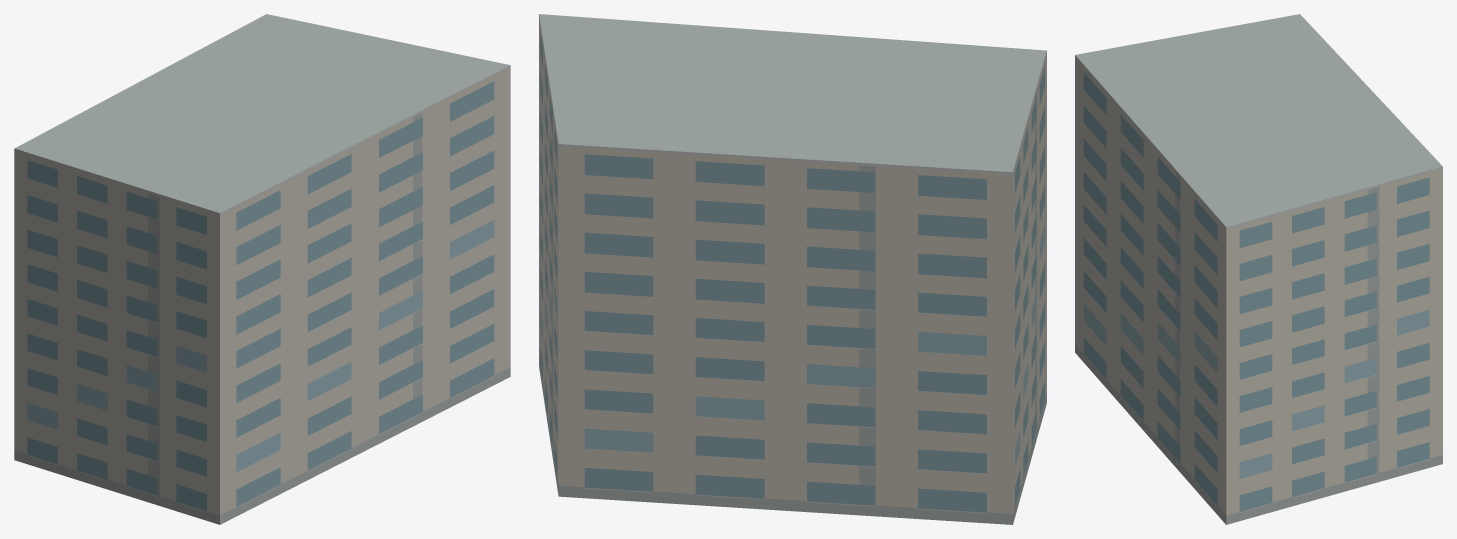
Rendered from residential-daf2278e-87f0-42e6-a125-df722576db41.glb.
3 renders of one model, left to right at view 1: azimuth 30°, elevation 25°; view 2: azimuth 150°, elevation 25°; view 3: azimuth 270°, elevation 25°, orthographic. The views are drawn at different scales.
Parts seen in each view (by area): view 1: residential-daf2278e-87f0-42e6-a125-df722576db41.tmp; view 2: residential-daf2278e-87f0-42e6-a125-df722576db41.tmp; view 3: residential-daf2278e-87f0-42e6-a125-df722576db41.tmp.
Boxes of the visible parts, bbox=[...] form: residential-daf2278e-87f0-42e6-a125-df722576db41.tmp: bbox=[14, 14, 510, 524]; residential-daf2278e-87f0-42e6-a125-df722576db41.tmp: bbox=[539, 14, 1046, 524]; residential-daf2278e-87f0-42e6-a125-df722576db41.tmp: bbox=[1075, 14, 1442, 524].
Bounding box in the file's own units: 43 × 28 × 31.35.
